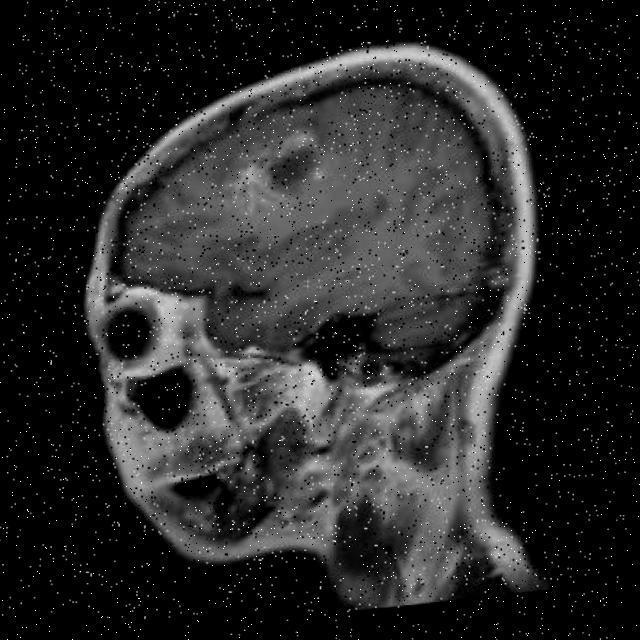EMCI: (221, 98, 361, 255)
